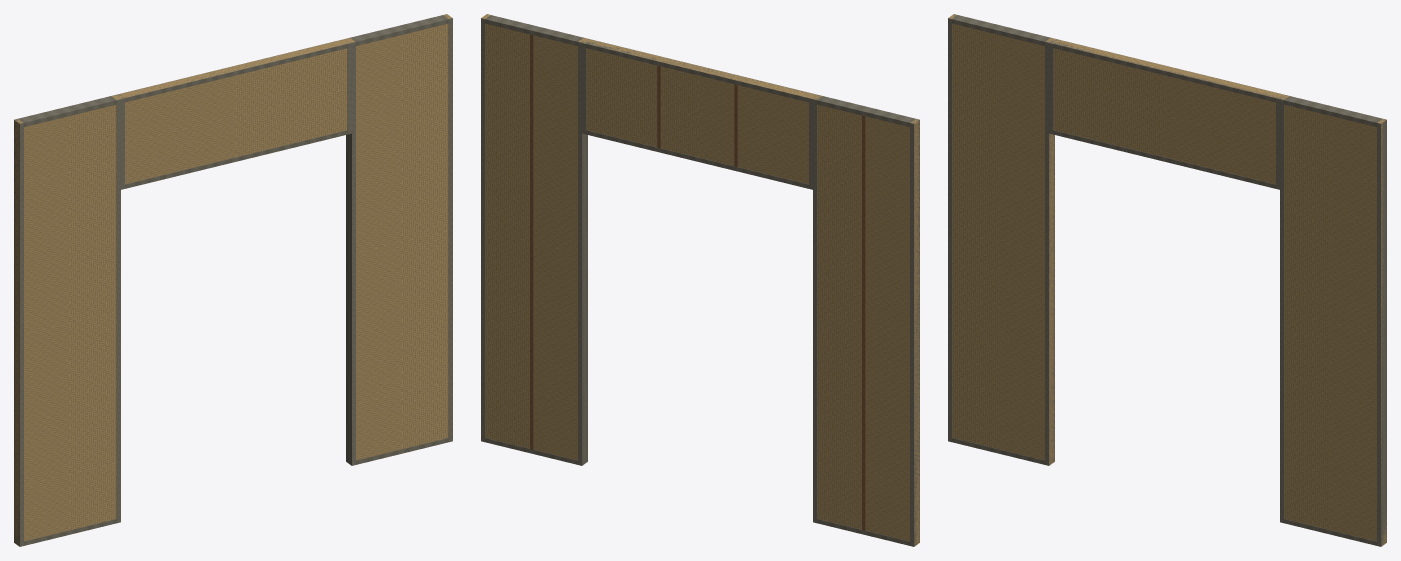
File: MRP_WallDoubleDoor_Bamboo_3m.fbx
3 views of the same model, side by side, from view 1: azimuth 30°, elevation 25°; view 2: azimuth 150°, elevation 25°; view 3: azimuth 330°, elevation 25° (orthographic).
Visible parts, largest first — view 1: Body; view 2: Body; view 3: Body.
Boxes of the visible parts, x1,y1,x2,y2 form: Body: (14,14,452,546); Body: (481,14,919,546); Body: (948,14,1386,546).
Size of the model in its own units: 3 by 2.8 by 0.07.
